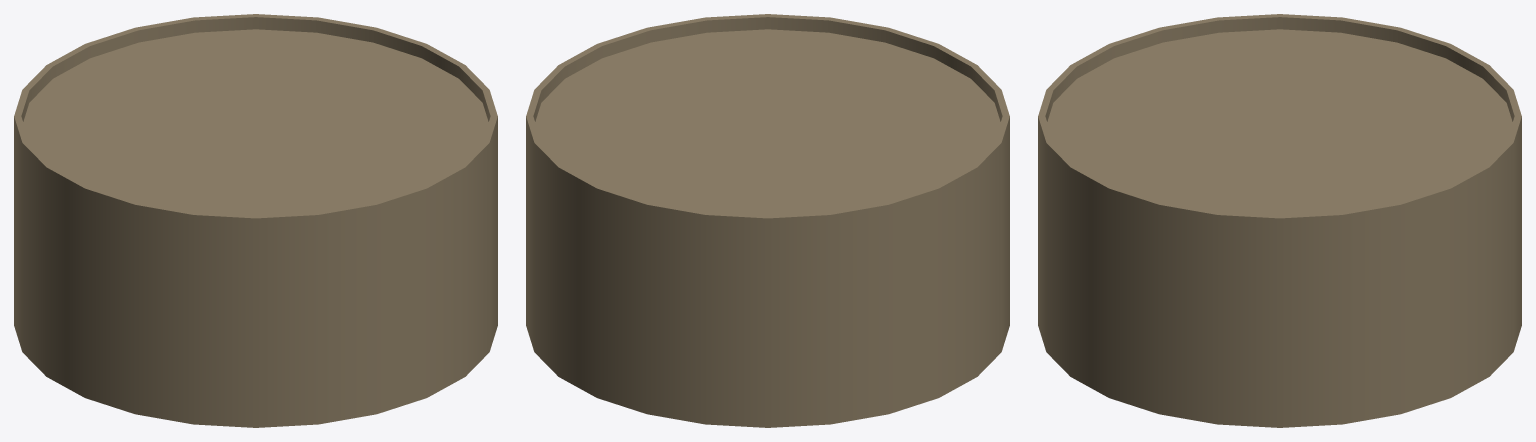
Rendered from Steamer.FBX.
3 views of the same model, side by side, from view 1: azimuth 30°, elevation 25°; view 2: azimuth 150°, elevation 25°; view 3: azimuth 270°, elevation 25° (orthographic).
Parts seen in each view (by area): view 1: Steamer; view 2: Steamer; view 3: Steamer.
Part boxes in pixels (x1,y1,x2,y2): Steamer: (14,14,497,427); Steamer: (526,14,1009,427); Steamer: (1038,14,1521,427).
Bounding box in the file's own units: 31.04 × 14.84 × 31.04.
